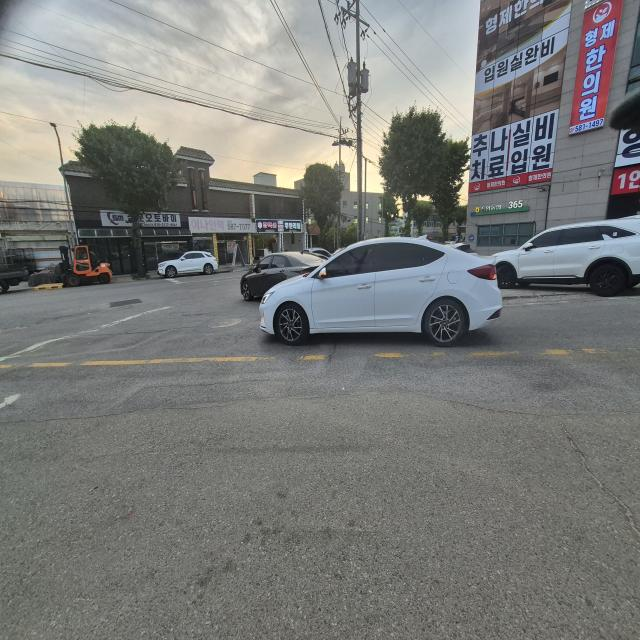car: (281, 236, 483, 348), (488, 216, 640, 295), (6, 238, 112, 294), (240, 251, 328, 301), (158, 250, 218, 278)
